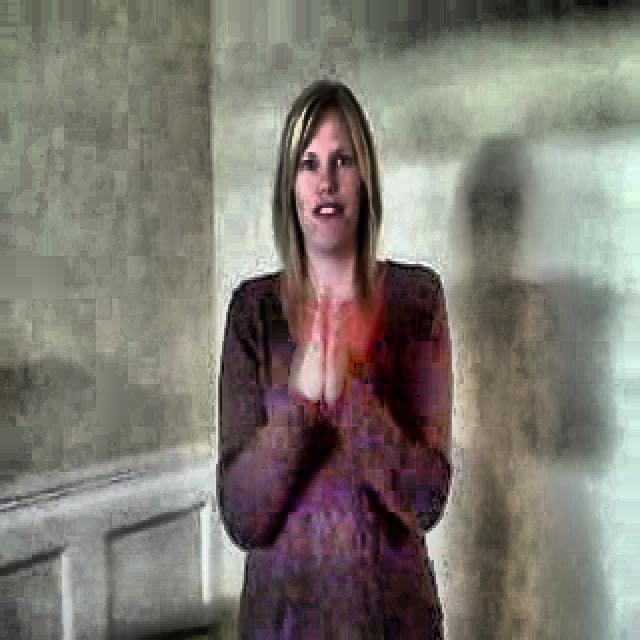F: (197, 72, 476, 640)
